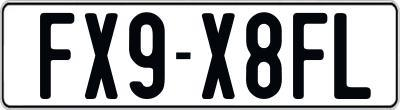8: (243, 11, 284, 103)
9: (127, 9, 167, 101)
F: (290, 10, 326, 99), (37, 11, 71, 100)
L: (331, 12, 370, 104)
X: (202, 10, 237, 100), (82, 10, 117, 98)
